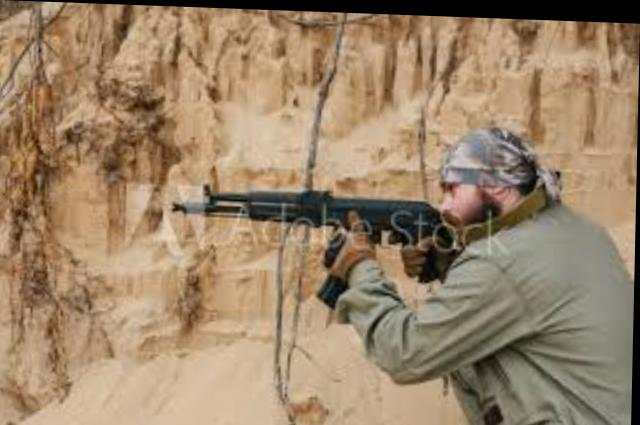other: (339, 119, 638, 424)
